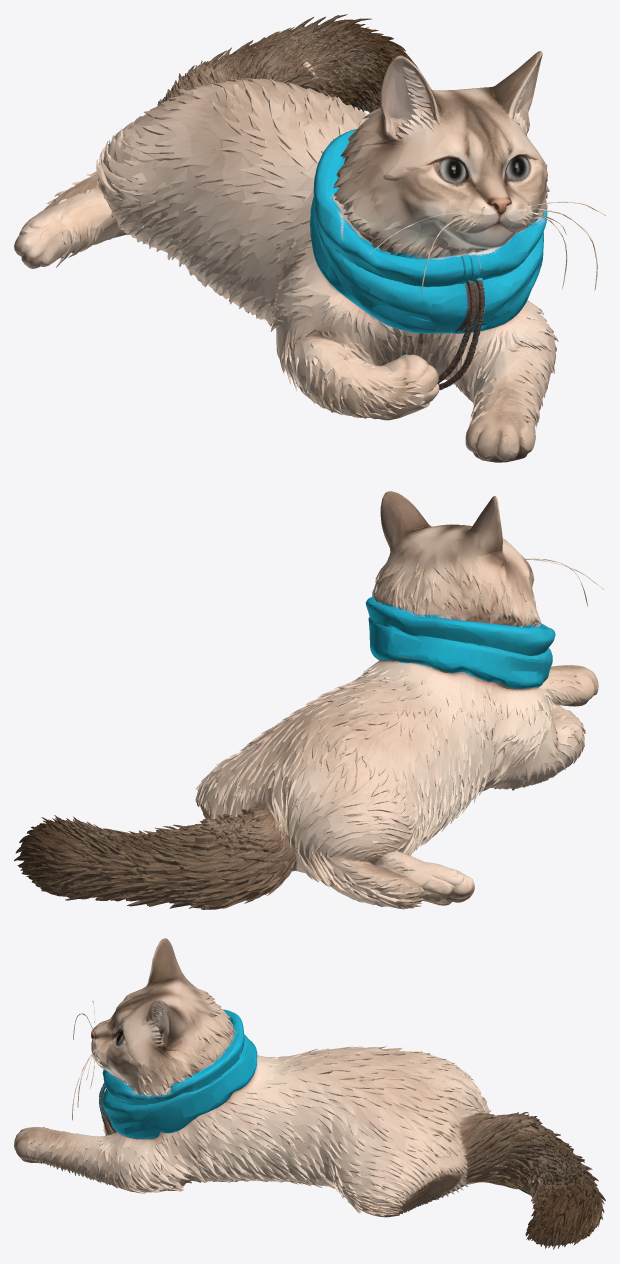
Rendered from cat-ragdoll-cat.previous.glb.
The picture shows the model from 3 angles, top to bottom: view 1: azimuth 30°, elevation 25°; view 2: azimuth 150°, elevation 25°; view 3: azimuth 270°, elevation 25°; orthographic projection. The views are drawn at different scales.
Visible parts, largest first — view 1: output_unwrapped; view 2: output_unwrapped; view 3: output_unwrapped.
Boxes of the visible parts, x1,y1,x2,y2 form: output_unwrapped: [14, 14, 605, 462]; output_unwrapped: [14, 491, 605, 909]; output_unwrapped: [14, 938, 605, 1249].
Size of the model in its own units: 1.19 by 0.7687 by 1.9.
1 material, 1 textured.
